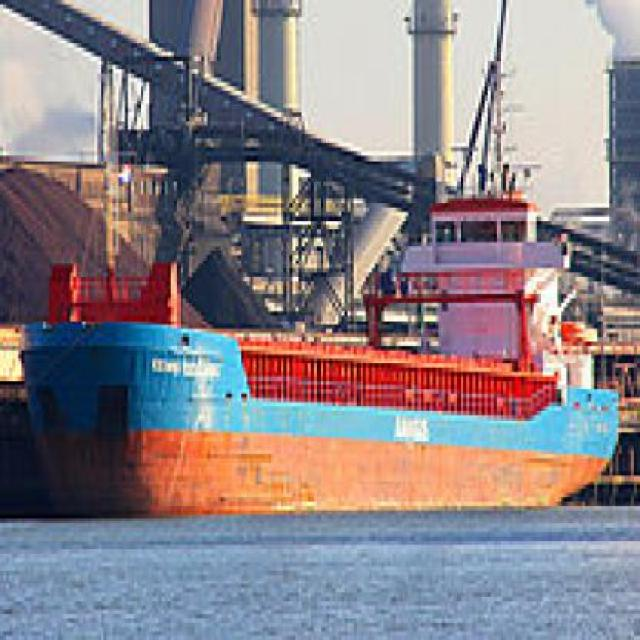container: (10, 148, 626, 516)
